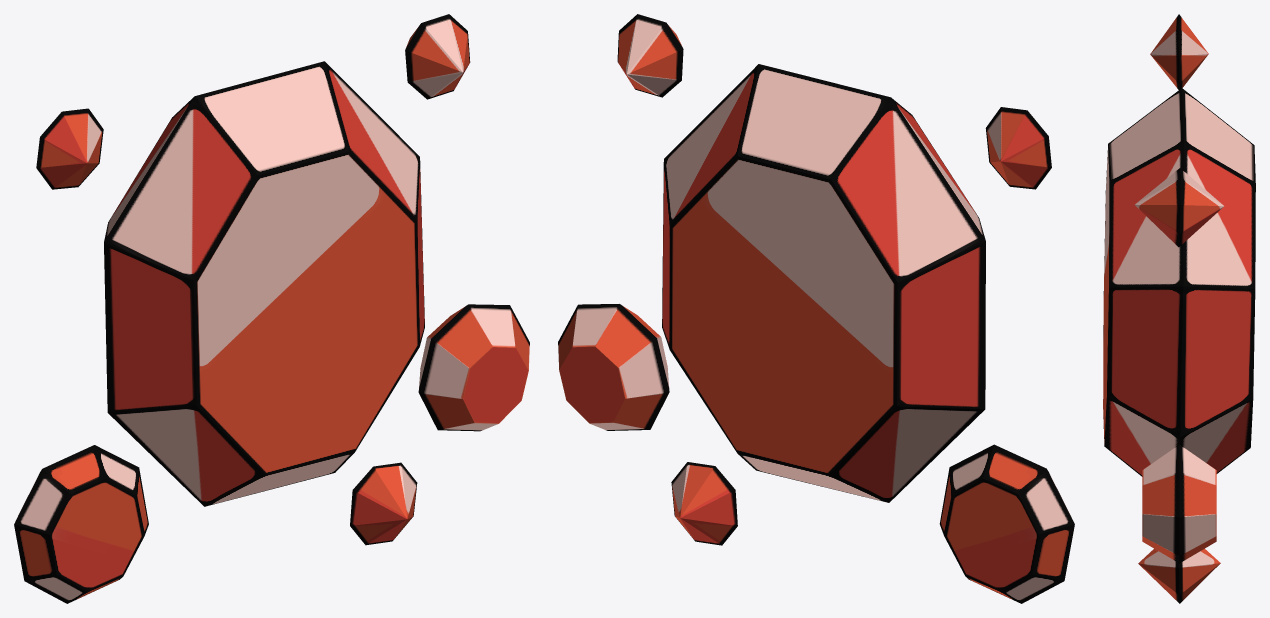
Rendered from item_heatitem1.fbx.
The picture shows the model from 3 angles, left to right: view 1: azimuth 30°, elevation 25°; view 2: azimuth 150°, elevation 25°; view 3: azimuth 270°, elevation 25°; orthographic projection. The views are drawn at different scales.
Visible parts, largest first — view 1: heatitem1; view 2: heatitem1; view 3: heatitem1.
Boxes of the visible parts, x1,y1,x2,y2 form: heatitem1: (14,14,529,603); heatitem1: (558,14,1074,603); heatitem1: (1103,14,1255,603).
Bounding box in the file's own units: 86.3 × 82.01 × 25.22.
